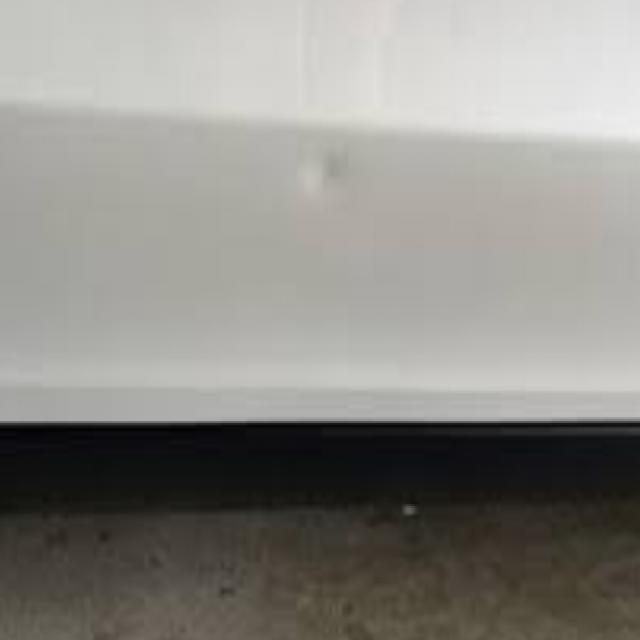dents: (286, 139, 361, 217)
